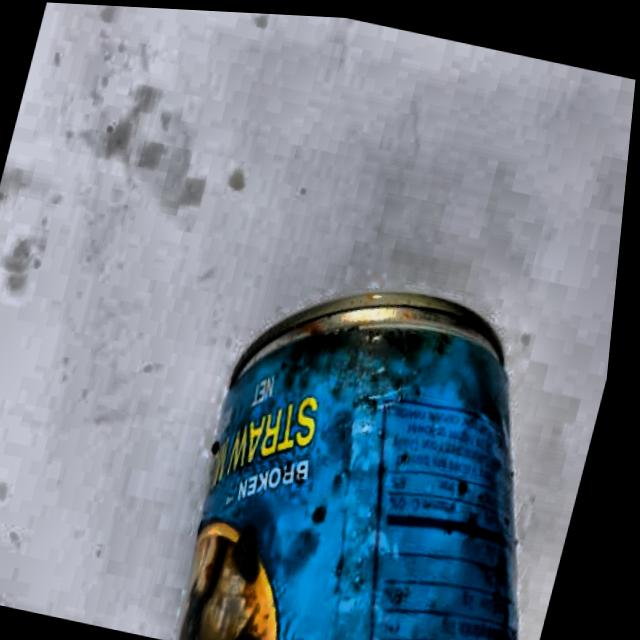Cans: (158, 238, 623, 640)
